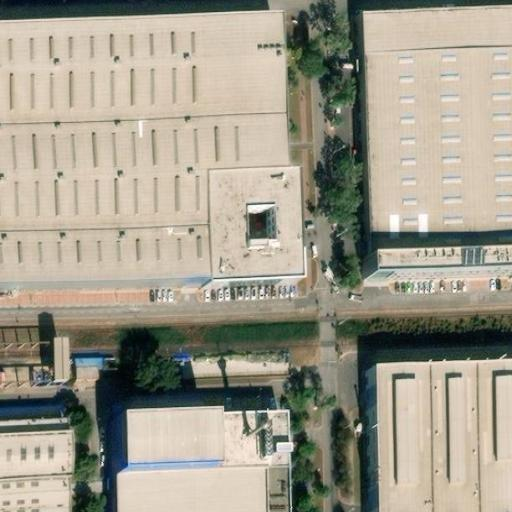building: (353, 5, 512, 262), (364, 364, 512, 512), (110, 424, 286, 512), (366, 254, 512, 283), (70, 352, 114, 378)
